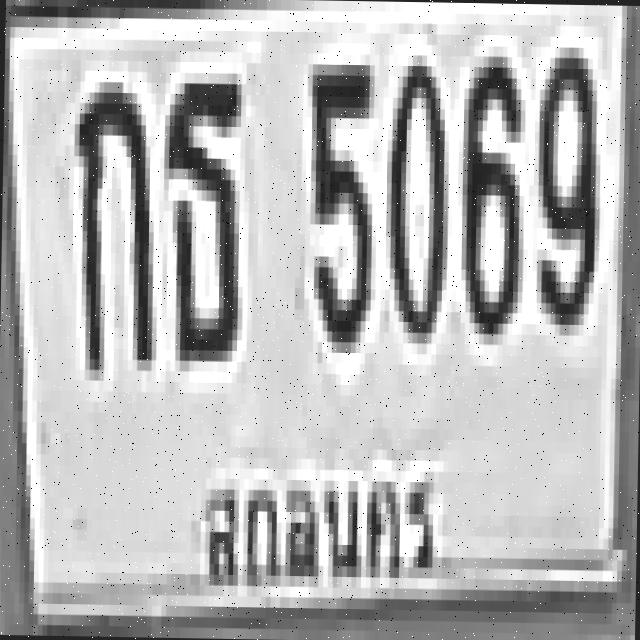0: (384, 44, 446, 332)
10GorGai: (70, 70, 151, 370)
33ThorThong: (160, 72, 237, 351)
5: (302, 54, 370, 342)
6: (458, 45, 520, 324)
9: (531, 36, 593, 324)
SakonNakhon: (186, 422, 446, 611)
